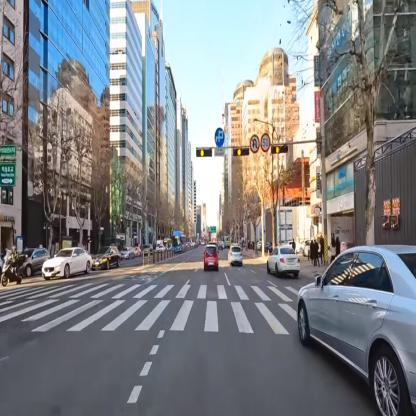Yellow: (197, 146, 212, 158), (272, 143, 288, 154), (233, 147, 250, 157)
